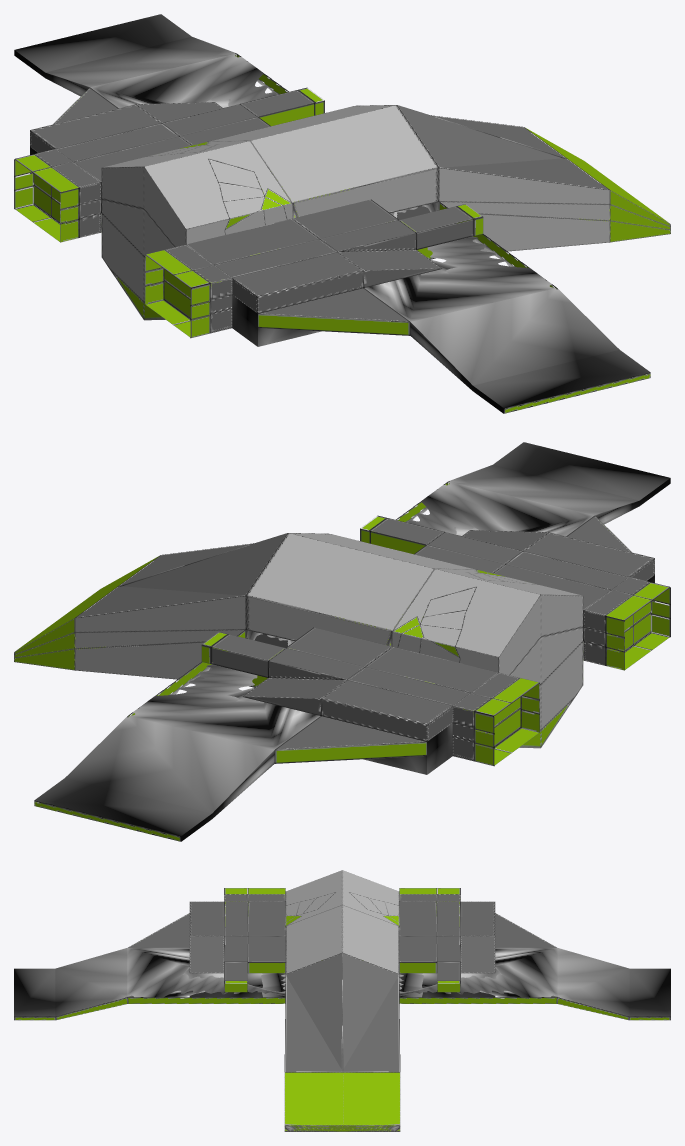
The model's file is starman.obj.
The picture shows the model from 3 angles, top to bottom: view 1: azimuth 30°, elevation 25°; view 2: azimuth 150°, elevation 25°; view 3: azimuth 270°, elevation 25°; orthographic projection. The views are drawn at different scales.
Visible parts, largest first — view 1: Cube; view 2: Cube; view 3: Cube.
Boxes of the visible parts, x1=… form: Cube: x1=14, y1=14, x2=670, y2=413; Cube: x1=14, y1=442, x2=670, y2=841; Cube: x1=14, y1=870, x2=670, y2=1131.
Size of the model in its own units: 7.16 by 2 by 11.54.
1 material, 1 textured.
